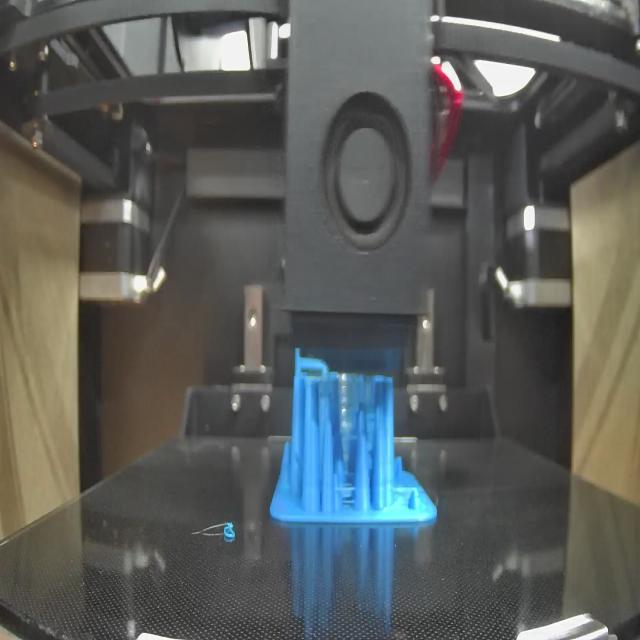stringing: (324, 369, 378, 410), (389, 474, 417, 504), (332, 474, 358, 506)
